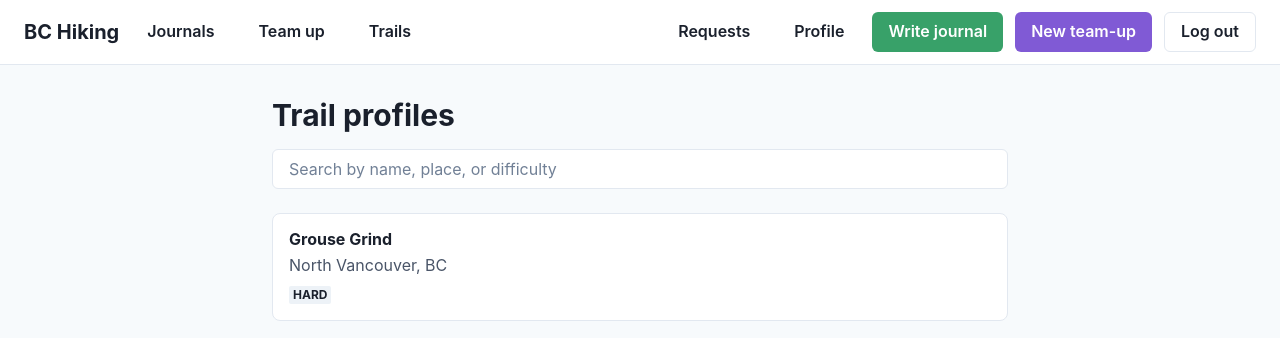
Test case: searches trail profiles and lists matches
expect the heading "Grouse Grind" is shown: met, box [289,229,392,249]
expect the text "North Vancouver, BC" is shown: met, box [289,255,447,275]
Type "zzz" into the field with placeholder "Search by name, place, or difficulty".
click(640, 169); type("zzz")  # box [272,149,1008,189]
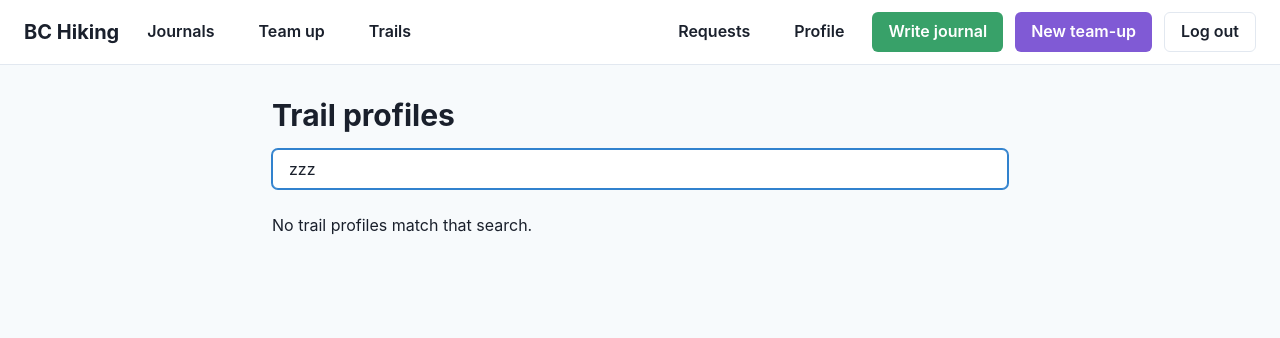
expect the text "No trail profiles match that search." is shown: met, box [272,215,532,235]
